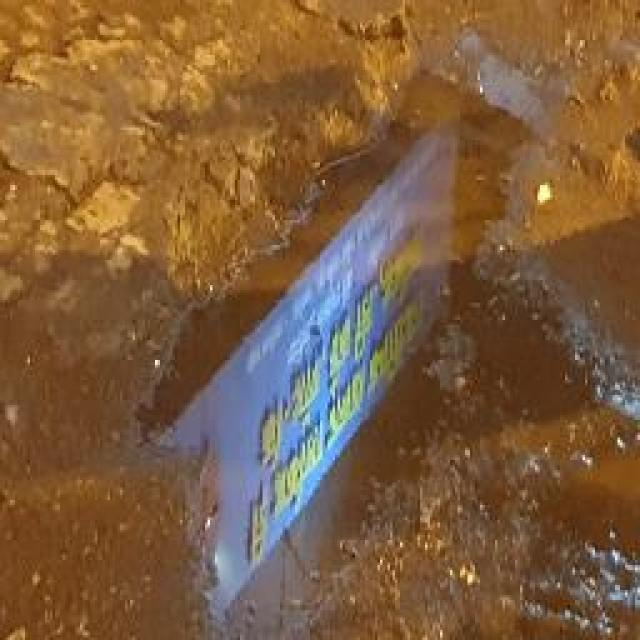puddle: (142, 69, 529, 632)
